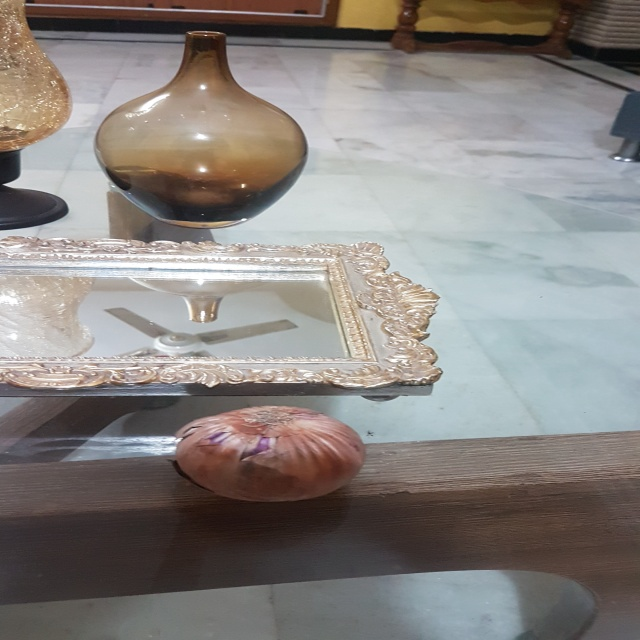onion: (157, 395, 381, 521)
